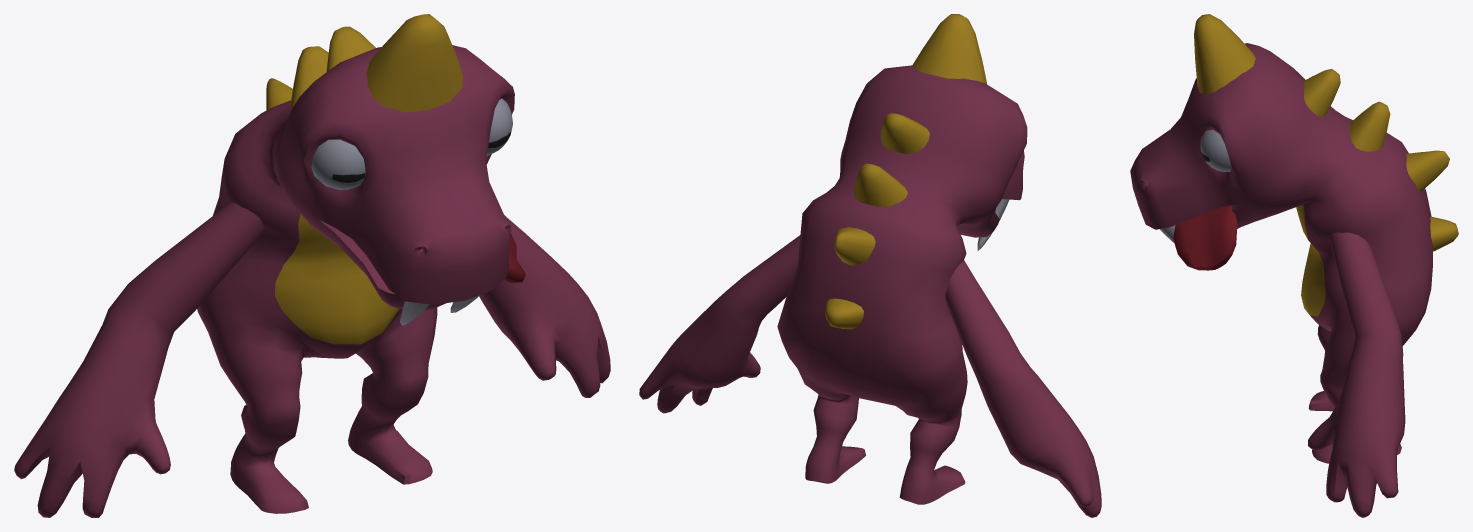
The model's file is q_dino.glb.
3 views of the same model, side by side, from view 1: azimuth 30°, elevation 25°; view 2: azimuth 150°, elevation 25°; view 3: azimuth 270°, elevation 25° (orthographic). The views are drawn at different scales.
Visible parts, largest first — view 1: Dino_b; view 2: Dino_b; view 3: Dino_b.
Part boxes in pixels (<box>): Dino_b: <box>14,14,610,517</box>; Dino_b: <box>639,14,1101,517</box>; Dino_b: <box>1130,14,1458,517</box>.
Size of the model in its own units: 1.14 by 1 by 0.7155.
